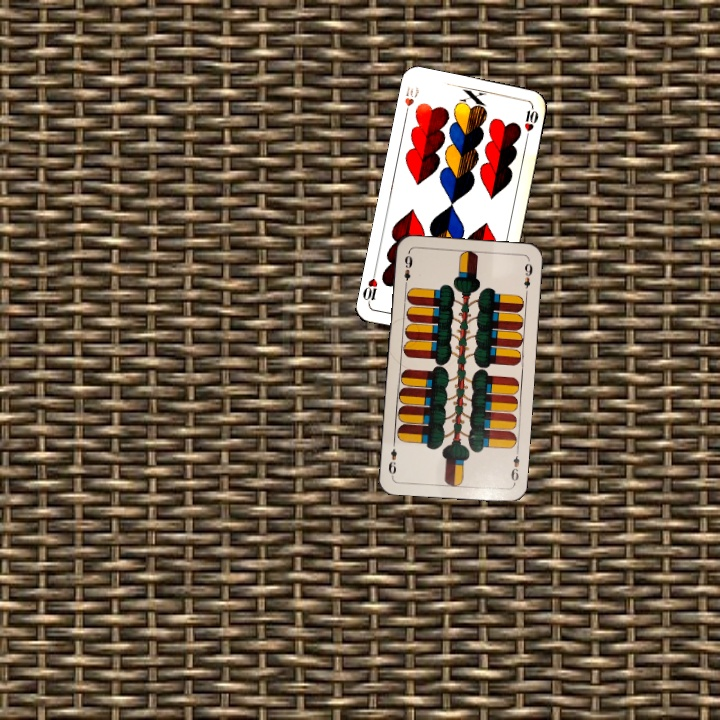E9: (507, 446, 522, 487), (400, 251, 415, 290)
H10: (400, 82, 422, 120)
